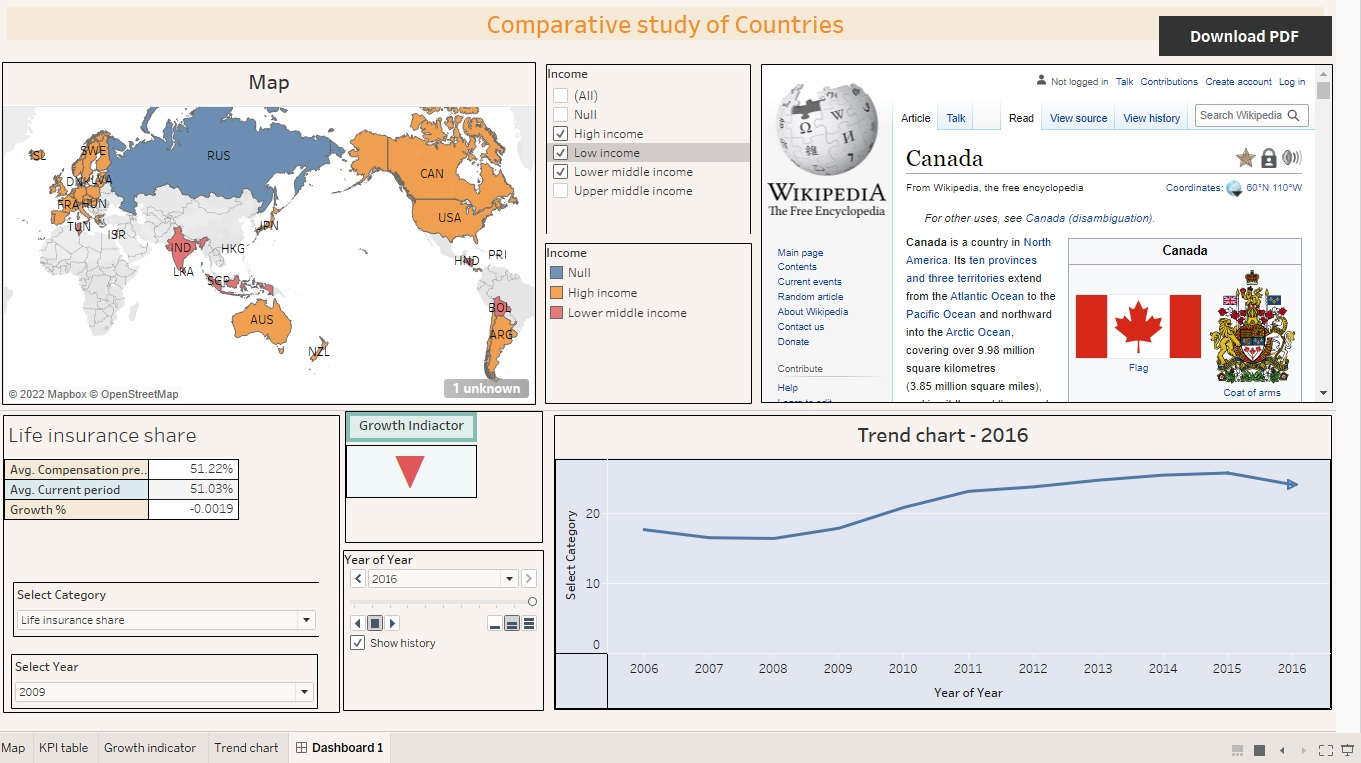

Layout of this report page (visuals, bound fields, positions):
{"tool":"tableau","page":{"name":"Dashboard 1","canvas":[1000,1000],"units":"permille","ordinal":0},"visuals":[{"type":"title","box":[6.1,13.5,987.8,69.2]},{"type":"worksheet","title":"Map","mark":"Multipolygon","box":[5,91.2,398.2,464.5]},{"type":"filter","title":"Map","param":"[federated.0z1hubc0k4xoh113i1oyj00129ug].[none:income:nk]","box":[410.7,92.9,152.8,231.4]},{"type":"web page","param":"https://en.wikipedia.org/wiki/Canada","box":[571.6,92.9,426.4,459.5]},{"type":"legend","title":"Map","param":"[federated.0z1hubc0k4xoh113i1oyj00129ug].[none:income:nk]","box":[409.9,336.2,154.4,217.9]},{"type":"worksheet","title":"Growth indicator","mark":"Automatic","box":[260.8,564.2,147.5,179.1]},{"type":"worksheet","title":"KPI table","mark":"Automatic","box":[6,569.3,251,403.7]},{"type":"worksheet","title":"Trend chart","mark":"Shape","rows":["Calculation_764486054606454784"],"cols":["Year"],"box":[416.7,569.3,580.2,400.3]},{"type":"currpage","title":"Trend chart","box":[259.3,751.7,149.8,217.9]},{"type":"parameter","param":"[Parameters].[Parameter 2]","box":[13.2,795.6,228.7,74.3]},{"type":"parameter","param":"[Parameters].[Parameter 1]","box":[12.2,893.6,228.7,74.3]}]}

Visuals, with their boxes on the dashboard's canvas, which has no fixed pixel size, in thousandths of its width and height (x1, y1, x2, y2). These are canvas units, not pixel positions in the 1361x763 screenshot, which may show the page scaled, cropped or inside an application window:
title: bbox=(6, 14, 994, 83)
"Map" worksheet (Multipolygon marks): bbox=(5, 91, 403, 556)
"Map" filter: bbox=(411, 93, 564, 324)
web page: bbox=(572, 93, 998, 552)
"Map" legend: bbox=(410, 336, 564, 554)
"Growth indicator" worksheet: bbox=(261, 564, 408, 743)
"KPI table" worksheet: bbox=(6, 569, 257, 973)
"Trend chart" worksheet (Shape marks): bbox=(417, 569, 997, 970)
"Trend chart" currpage: bbox=(259, 752, 409, 970)
parameter: bbox=(13, 796, 242, 870)
parameter: bbox=(12, 894, 241, 968)
